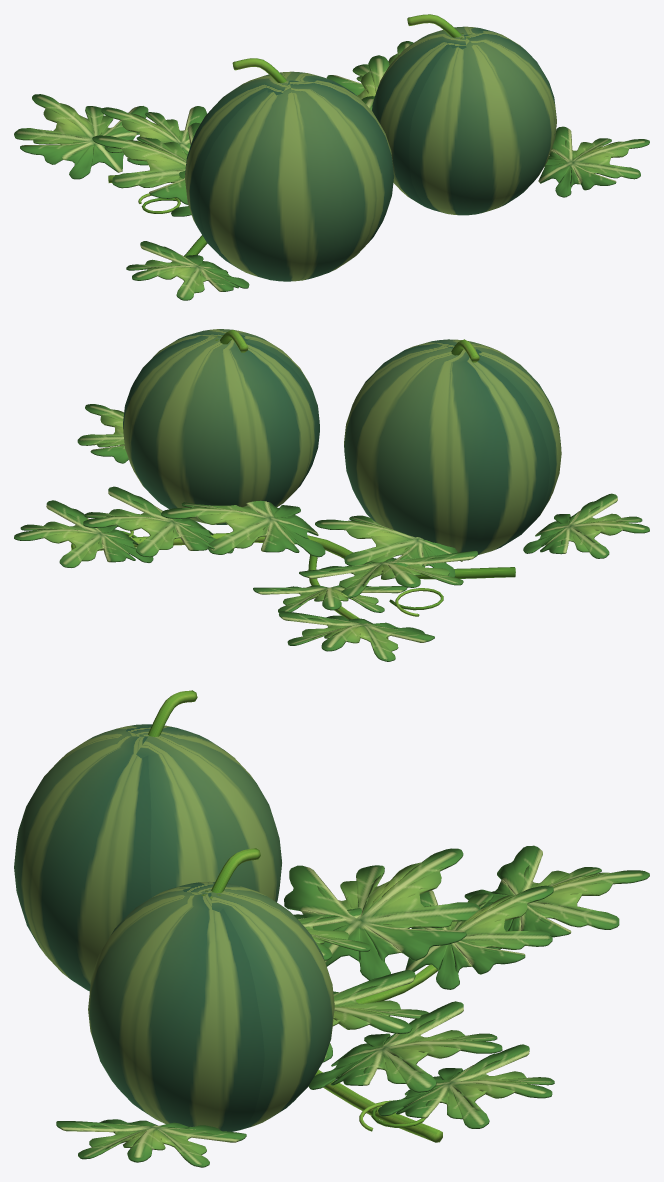
The model's file is NP_Watermelon_Ready.fbx.
The picture shows the model from 3 angles, top to bottom: view 1: azimuth 30°, elevation 25°; view 2: azimuth 150°, elevation 25°; view 3: azimuth 270°, elevation 25°; orthographic projection. The views are drawn at different scales.
Visible parts, largest first — view 1: NP_Watermelon_Ready; view 2: NP_Watermelon_Ready; view 3: NP_Watermelon_Ready.
Part boxes in pixels (x1,y1,x2,y2): NP_Watermelon_Ready: [14, 14, 649, 300]; NP_Watermelon_Ready: [14, 329, 649, 661]; NP_Watermelon_Ready: [14, 690, 649, 1167].
Size of the model in its own units: 109 by 42.01 by 85.37.
